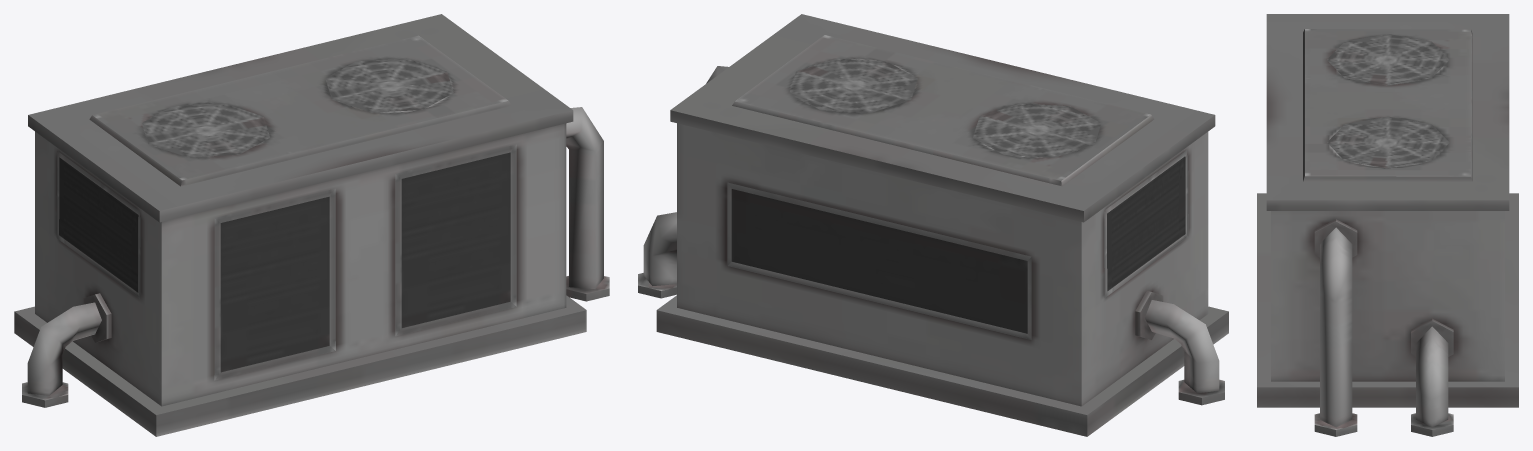
Rendered from Rooftop_AirConditioner.fbx.
The picture shows the model from 3 angles, left to right: view 1: azimuth 30°, elevation 25°; view 2: azimuth 150°, elevation 25°; view 3: azimuth 270°, elevation 25°; orthographic projection. The views are drawn at different scales.
Parts seen in each view (by area): view 1: SM_Rooftop_Air_Conditioner; view 2: SM_Rooftop_Air_Conditioner; view 3: SM_Rooftop_Air_Conditioner.
Boxes of the visible parts, <box> form: SM_Rooftop_Air_Conditioner: <box>14,14,609,436</box>; SM_Rooftop_Air_Conditioner: <box>638,14,1228,436</box>; SM_Rooftop_Air_Conditioner: <box>1257,14,1518,436</box>.
Size of the model in its own units: 3.15 by 1.21 by 1.38.
